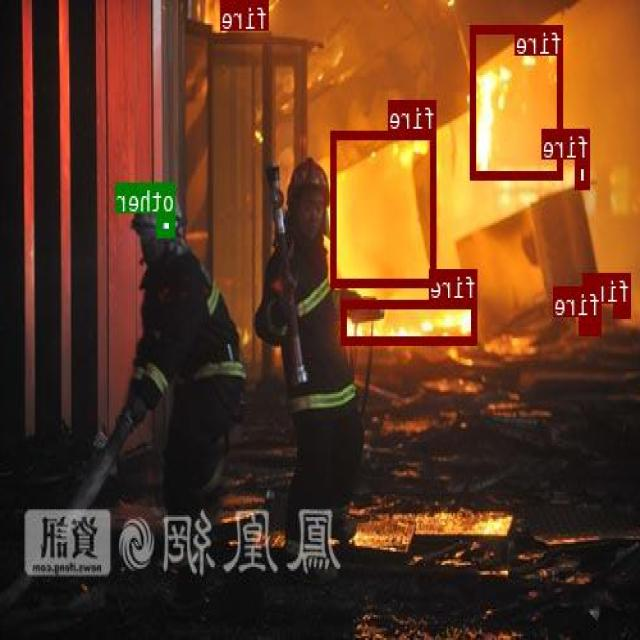fire: (332, 129, 437, 286), (472, 24, 565, 178), (342, 300, 478, 344), (576, 159, 591, 187), (250, 0, 270, 21), (581, 317, 602, 334), (615, 303, 631, 317)
other: (158, 213, 176, 236)
